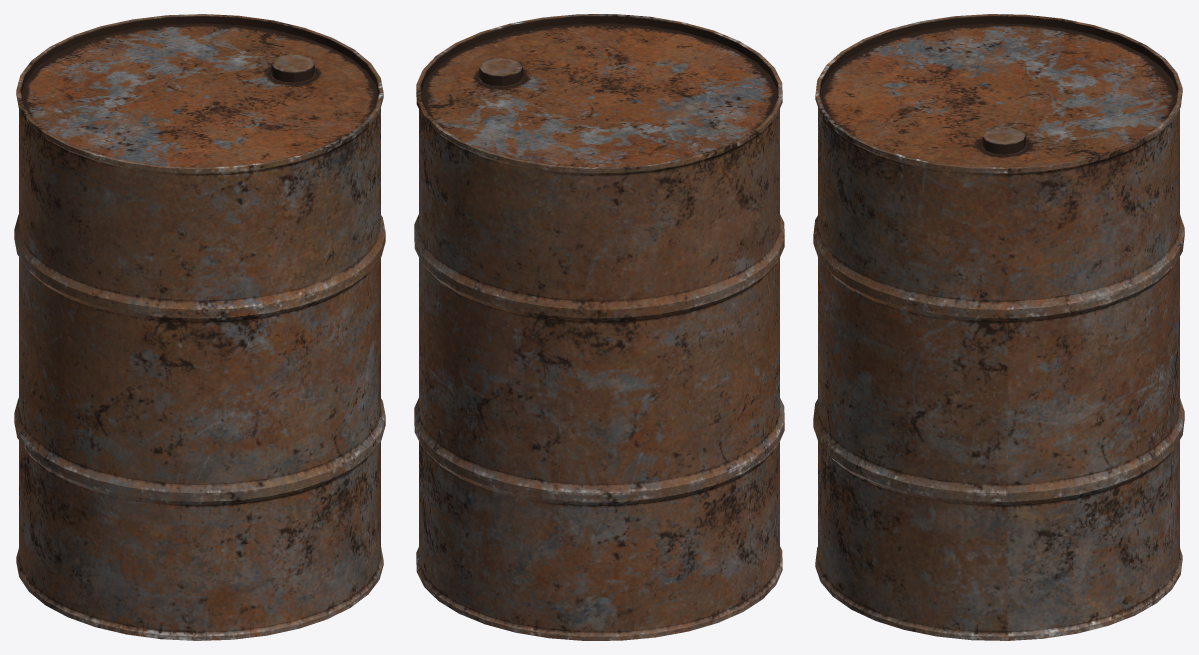
File: Component_OilDrum_grp.fbx
3 views of the same model, side by side, from view 1: azimuth 30°, elevation 25°; view 2: azimuth 150°, elevation 25°; view 3: azimuth 270°, elevation 25° (orthographic).
Parts seen in each view (by area): view 1: oilDrum_cans; view 2: oilDrum_cans; view 3: oilDrum_cans.
Part boxes in pixels (x1,y1,x2,y2): oilDrum_cans: [14, 14, 385, 640]; oilDrum_cans: [414, 14, 784, 640]; oilDrum_cans: [813, 14, 1184, 640].
Size of the model in its own units: 57.77 by 81.5 by 57.77.
